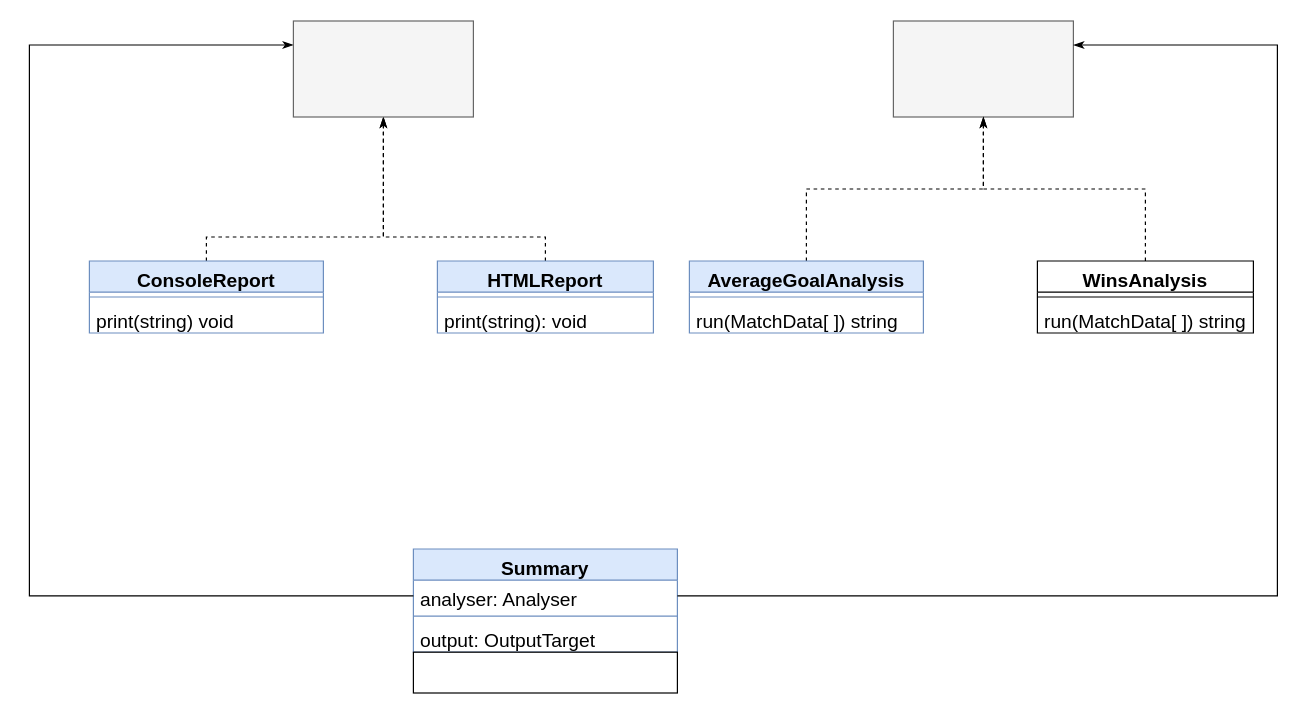
This 1308x714 diagram has some shape labels left out. Here are the shapes that lost their labels. From the top down, the centre of each, then its label:
At pixel 382 68: "<<Interface>> OutputTarget print(string) :void".
At pixel 982 68: "<<Interface>> MatchAnalyser run(MatchData[]) string".
At pixel 544 672: "generateReport(MatchData[ ])".
